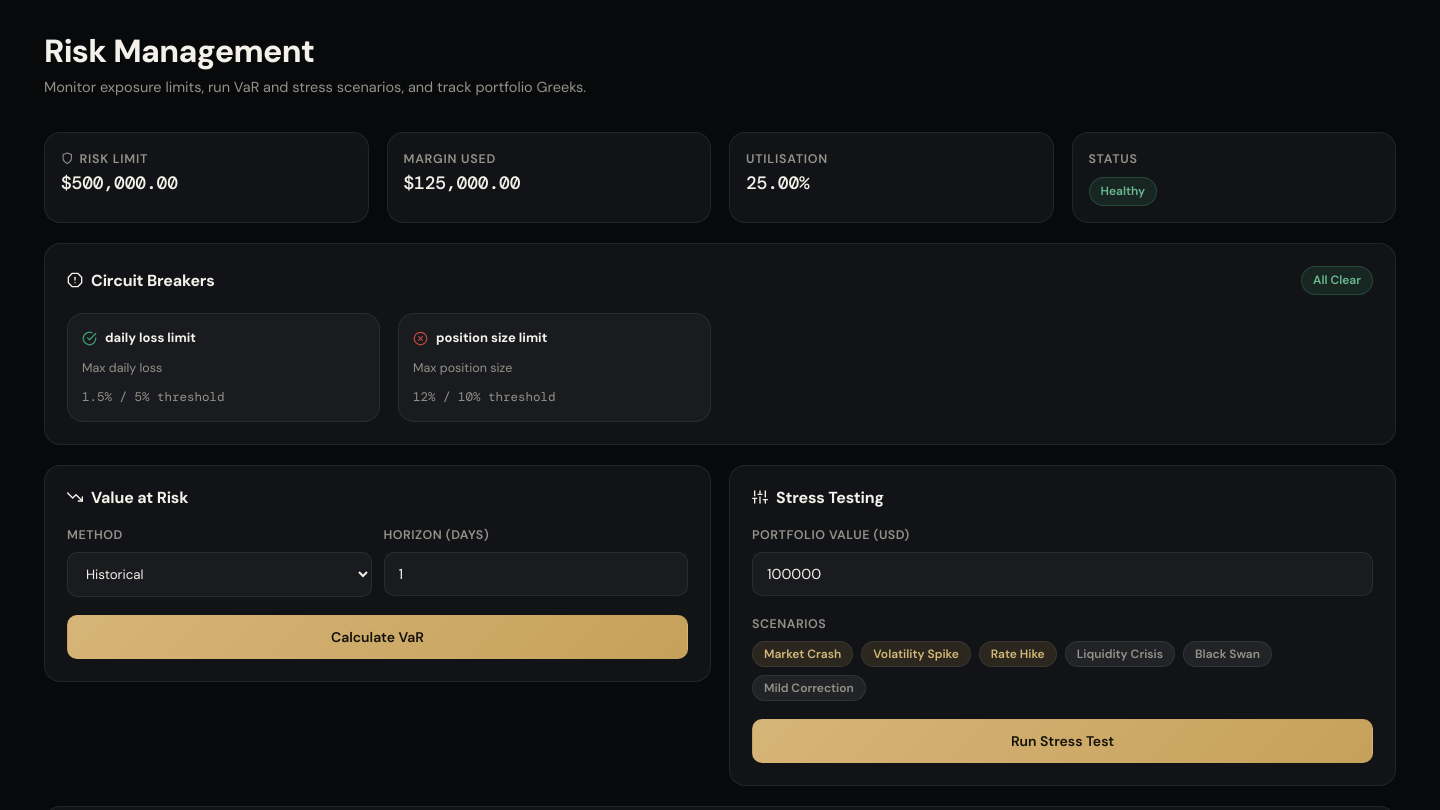
Value at Risk › defaults to historical, 1 day
The image size is (1440, 810).
Expected: the heading "Circuit Breakers" is shown, [67,271,215,290]
Click the button "Calculate VaR". click: [378, 637]
box: [67,615,688,659]
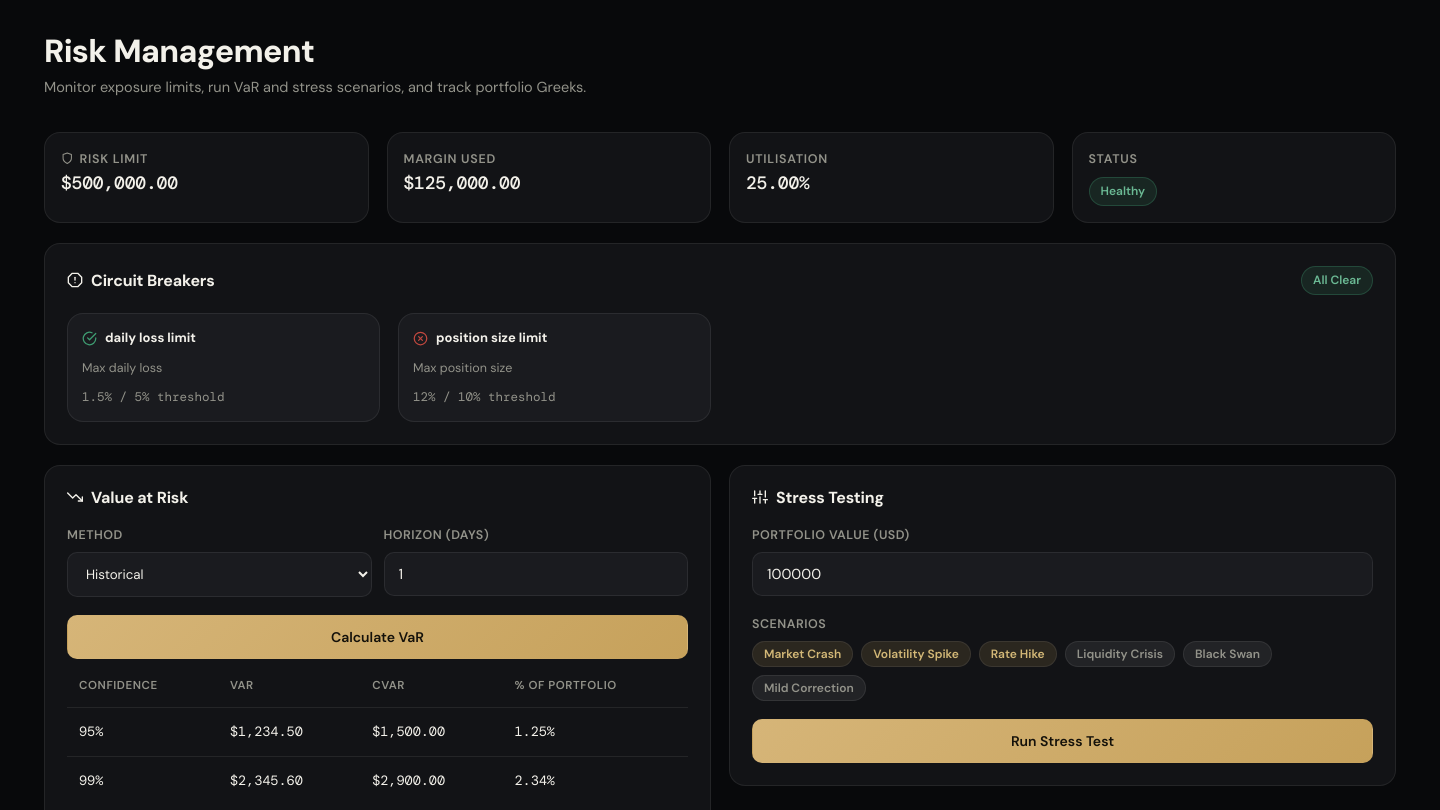
Expected: the text "95%" is shown, [67,708,218,756]
Expected: the text "$1,234.50" is shown, [218,708,360,756]
Expected: the text "$1,500.00" is shown, [360,708,502,756]
